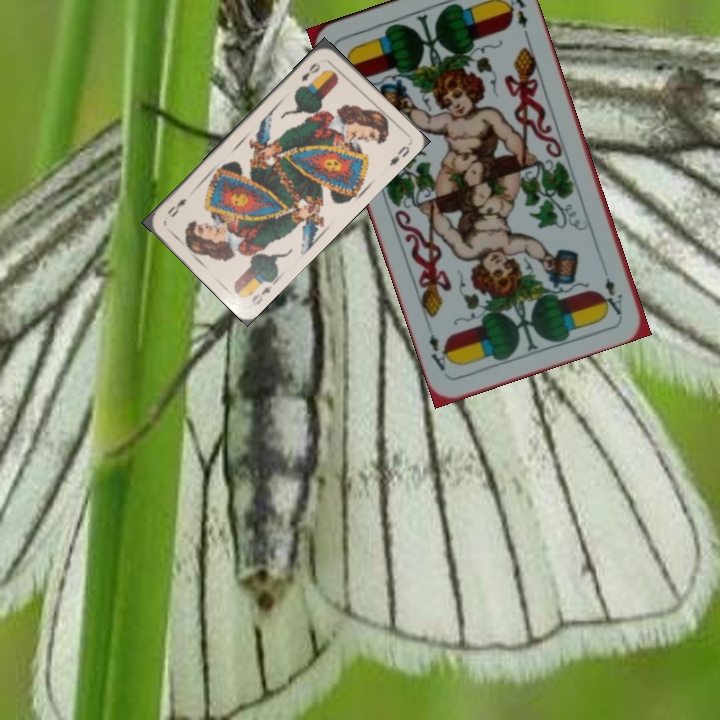EA: (600, 274, 625, 318)
EO: (244, 275, 279, 308), (297, 58, 323, 84)
